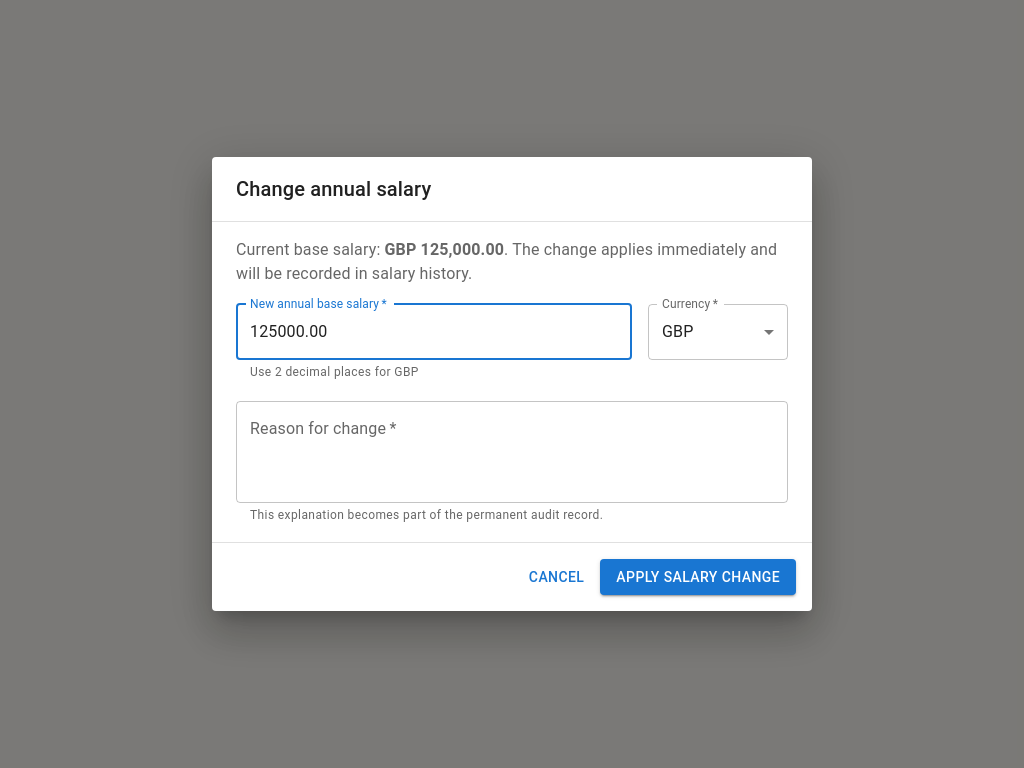
Test case: SalaryChangeDialog › retains the salary draft when reloading the latest employee fails
The image size is (1024, 768).
Step 1. Replace the text in the field labelled "New annual base salary *" with "130000.00" → x=434, y=332, box [236,304,632,360]
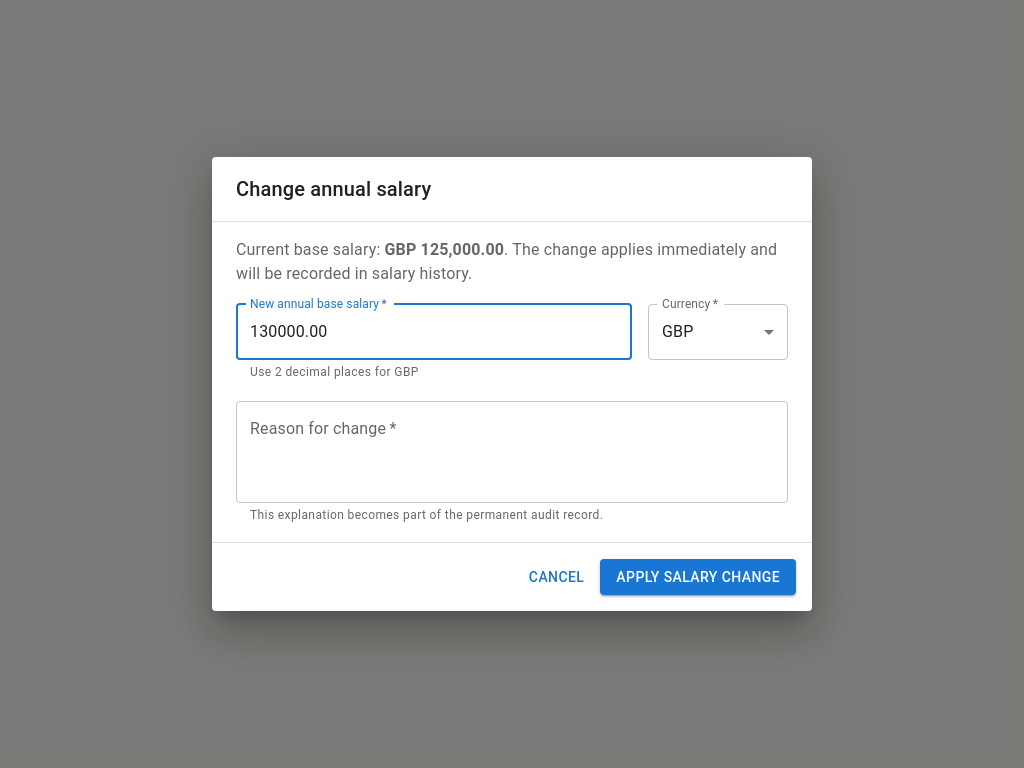
Step 2. Type "Annual market adjustment" into the text box labelled "Reason for change *" → x=512, y=452, box [250,417,774,486]
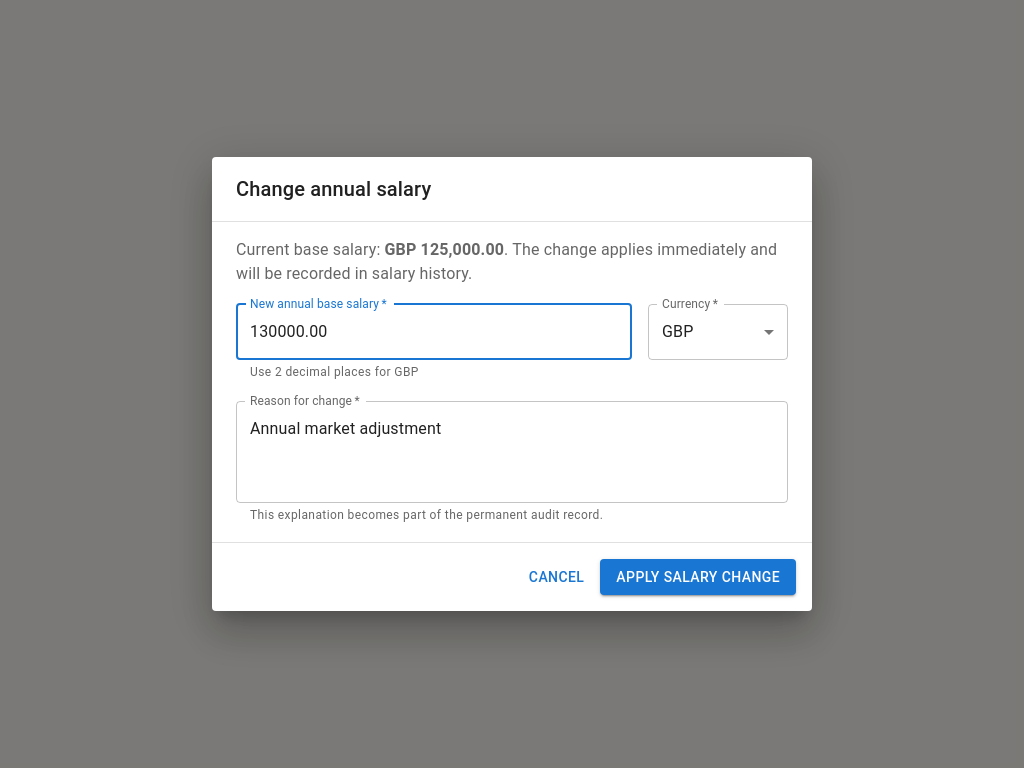
Step 3. Click the button "Apply salary change" → x=698, y=577, box [600,559,796,595]
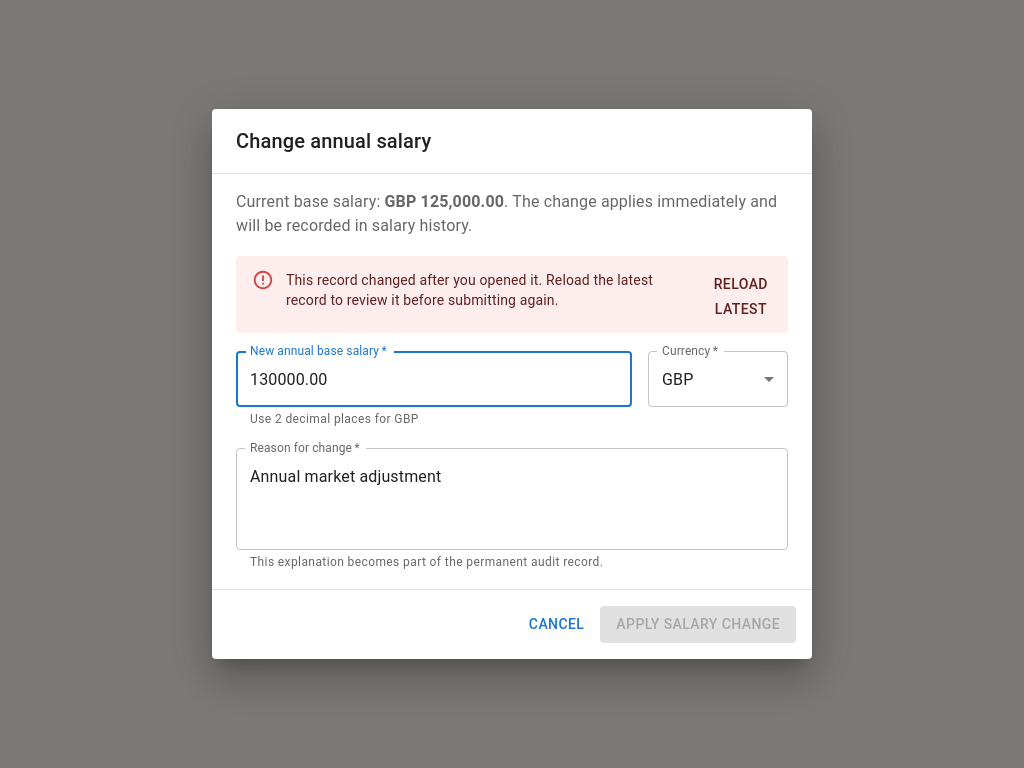
Step 4. Click the button "Reload latest" → x=741, y=297, box [702,266,780,327]
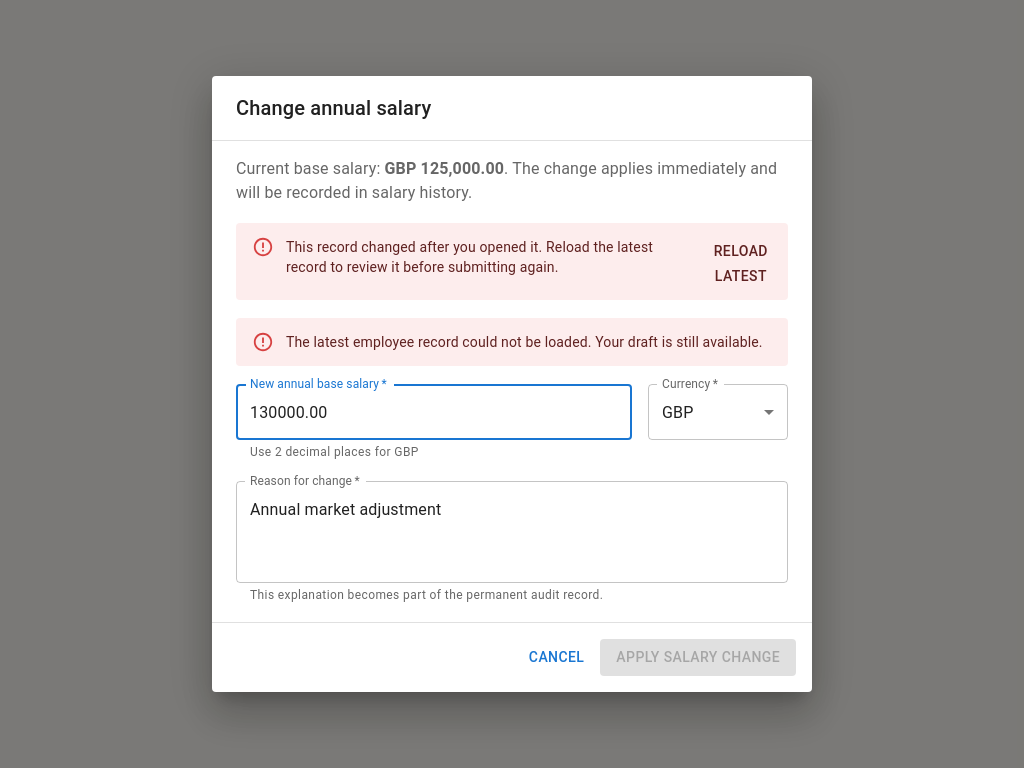
Expected: the button "Apply salary change" is disabled, [600,639,796,676]
Expected: the text "latest employee record could not be loaded" is shown, [286,334,763,350]
